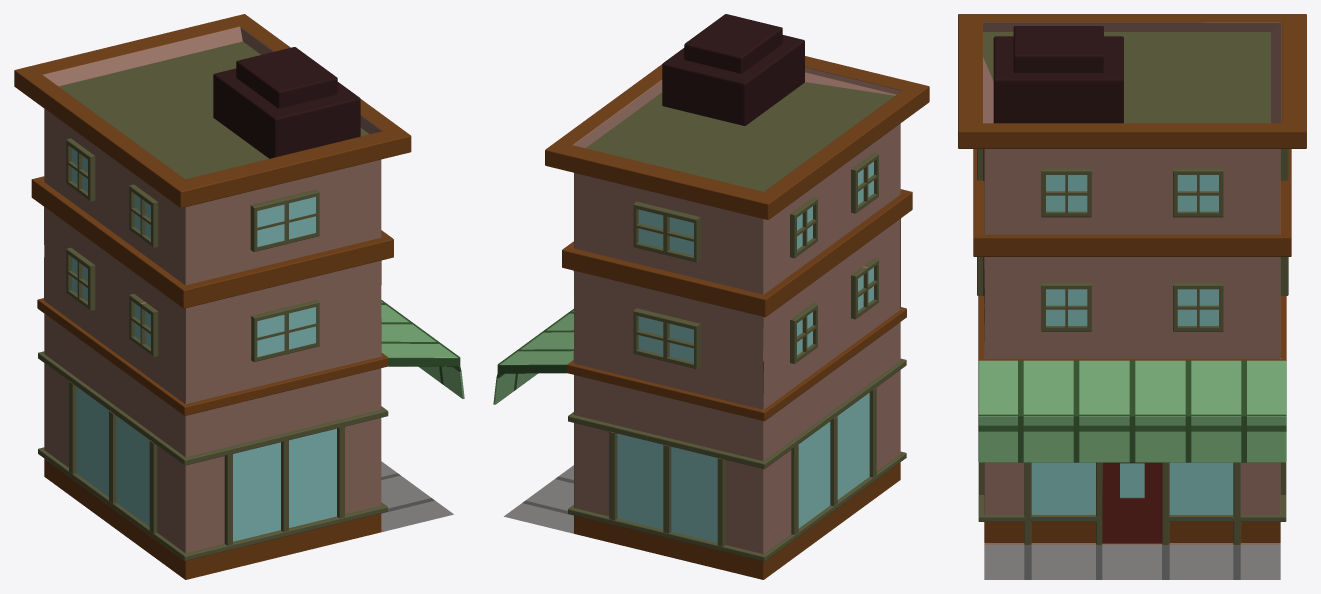
File: 3story_building.fbx
The picture shows the model from 3 angles, left to right: view 1: azimuth 30°, elevation 25°; view 2: azimuth 150°, elevation 25°; view 3: azimuth 270°, elevation 25°; orthographic projection. The views are drawn at different scales.
Visible parts, largest first — view 1: Cube; view 2: Cube; view 3: Cube.
Part boxes in pixels (x1,y1,x2,y2): Cube: [14, 14, 464, 579]; Cube: [493, 14, 929, 579]; Cube: [958, 14, 1306, 579].
Bounding box in the file's own units: 11974 × 17569 × 11763.
